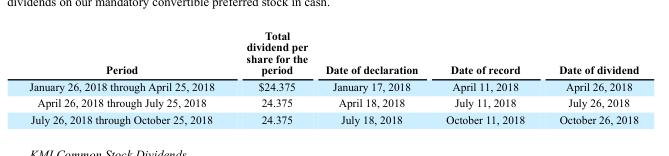table: (28, 28, 638, 125)
table column: (28, 28, 229, 125), (315, 28, 431, 125), (431, 28, 541, 125), (541, 28, 638, 125), (229, 28, 315, 125)
table column header: (28, 28, 638, 77)
table row: (28, 28, 638, 77), (28, 77, 638, 94), (28, 94, 638, 110), (28, 110, 638, 125)
